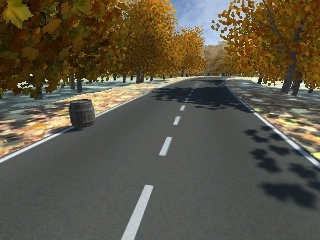Barrel: (68, 97, 98, 130)
